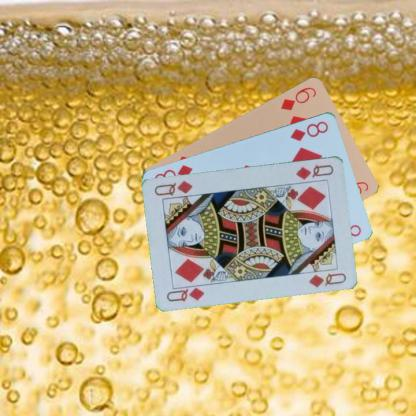6d: (278, 84, 318, 111)
8d: (288, 118, 330, 142)
Qd: (164, 281, 208, 303), (294, 162, 335, 180)
